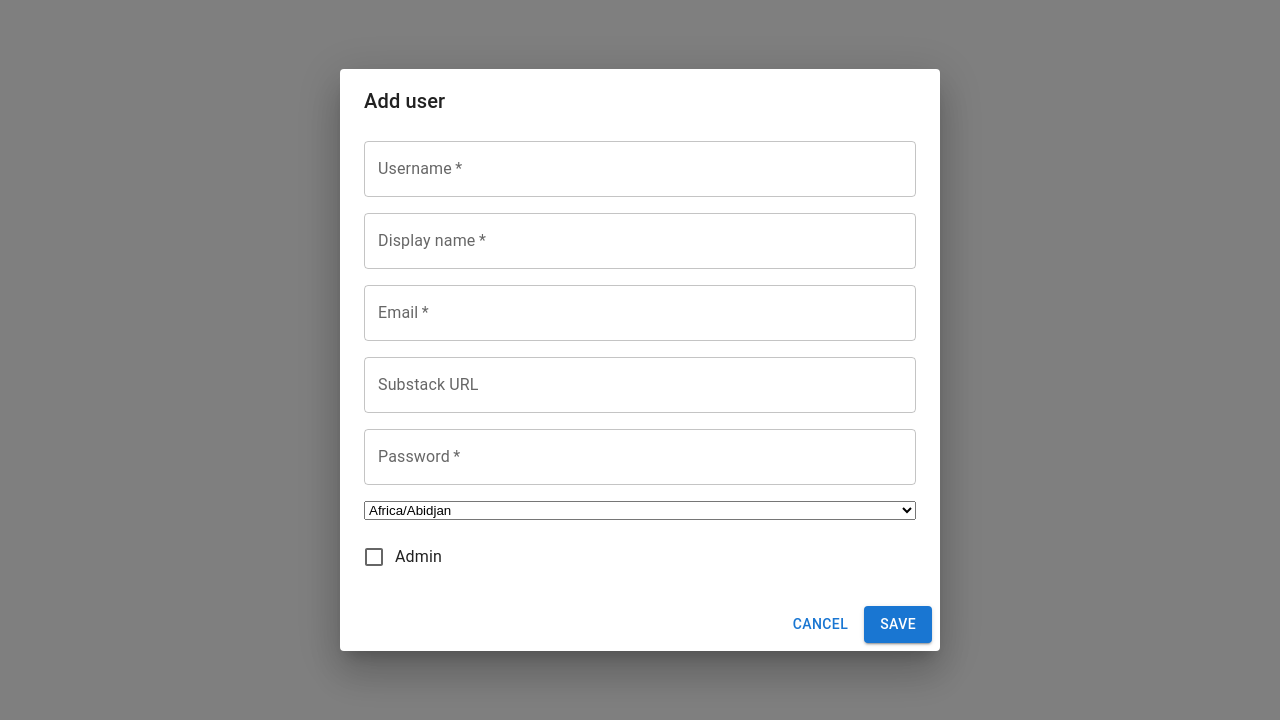
UserModal › shows error message when POST fails
The width and height of the screenshot is (1280, 720).
Type "alice" into the field labelled "Username *".
click(640, 169); type("alice")  # box [364, 141, 916, 197]
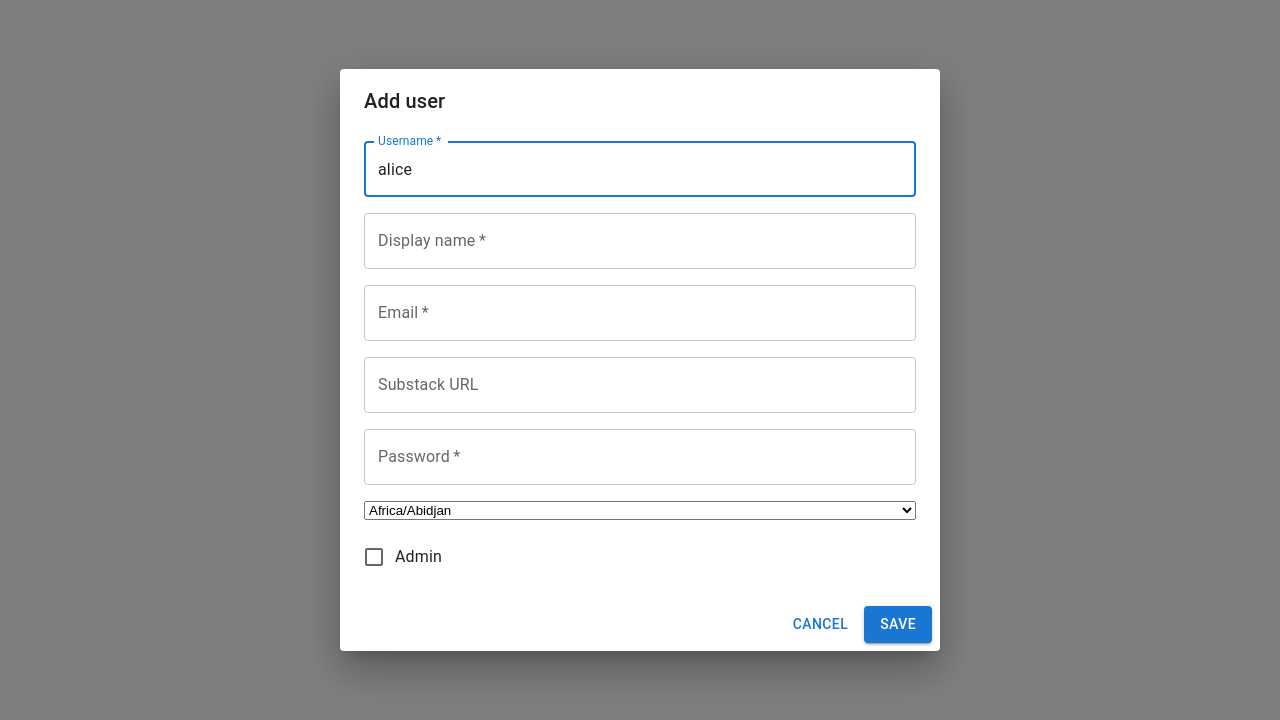
Type "Alice" into the field labelled "Display name *".
click(640, 241); type("Alice")  # box [364, 213, 916, 269]
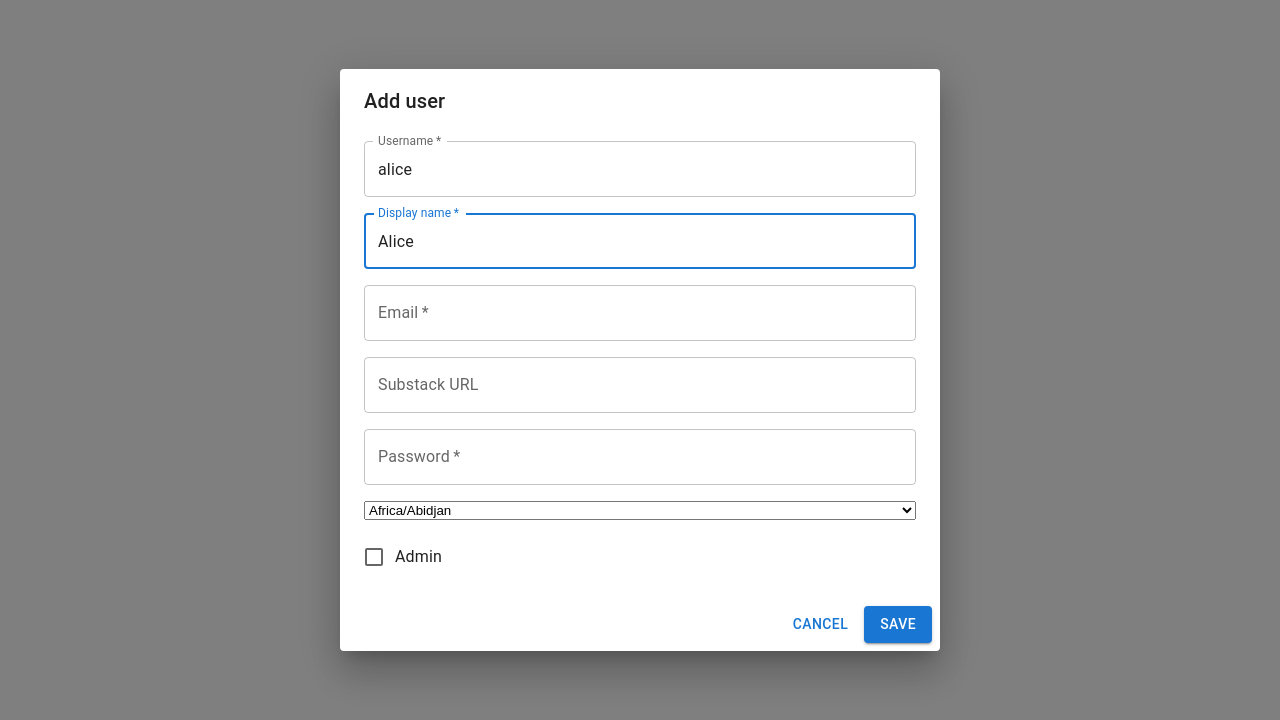
Type "alice@example.com" into the field labelled "Email *".
click(640, 313); type("alice@example.com")  # box [364, 285, 916, 341]
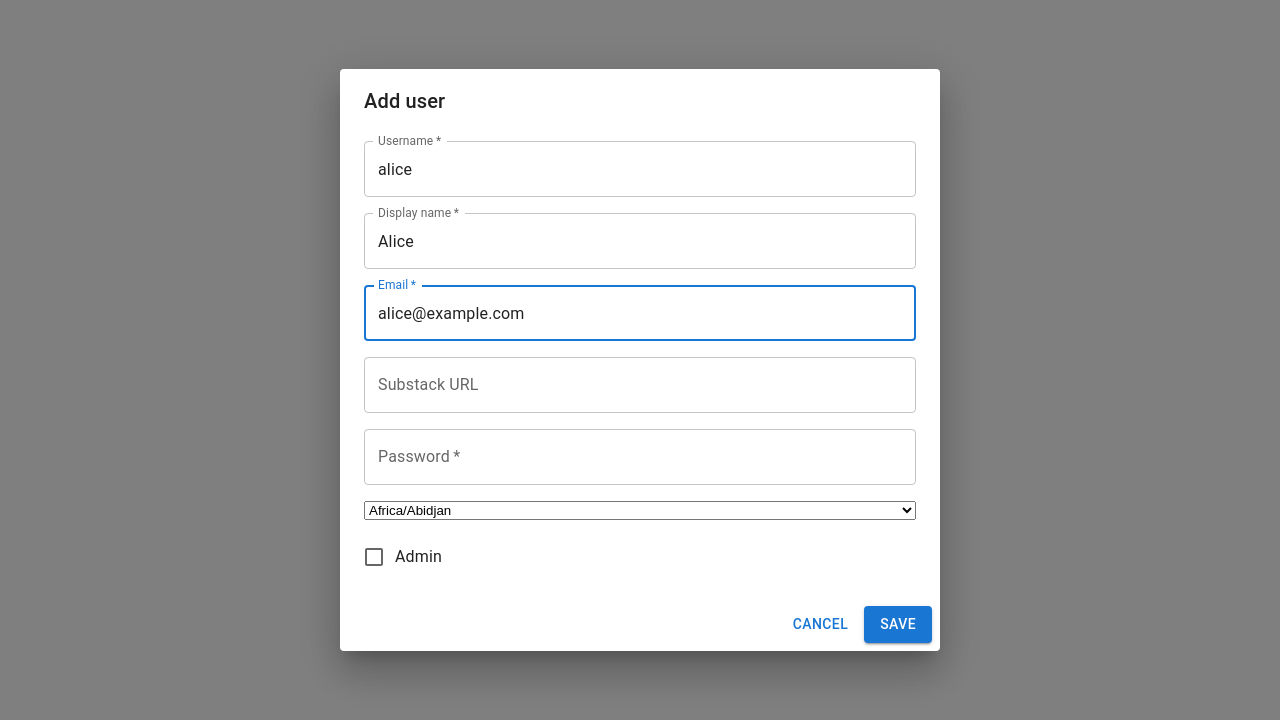
Type "password123" into the password field labelled "Password *".
click(640, 457); type("password123")  # box [364, 429, 916, 485]
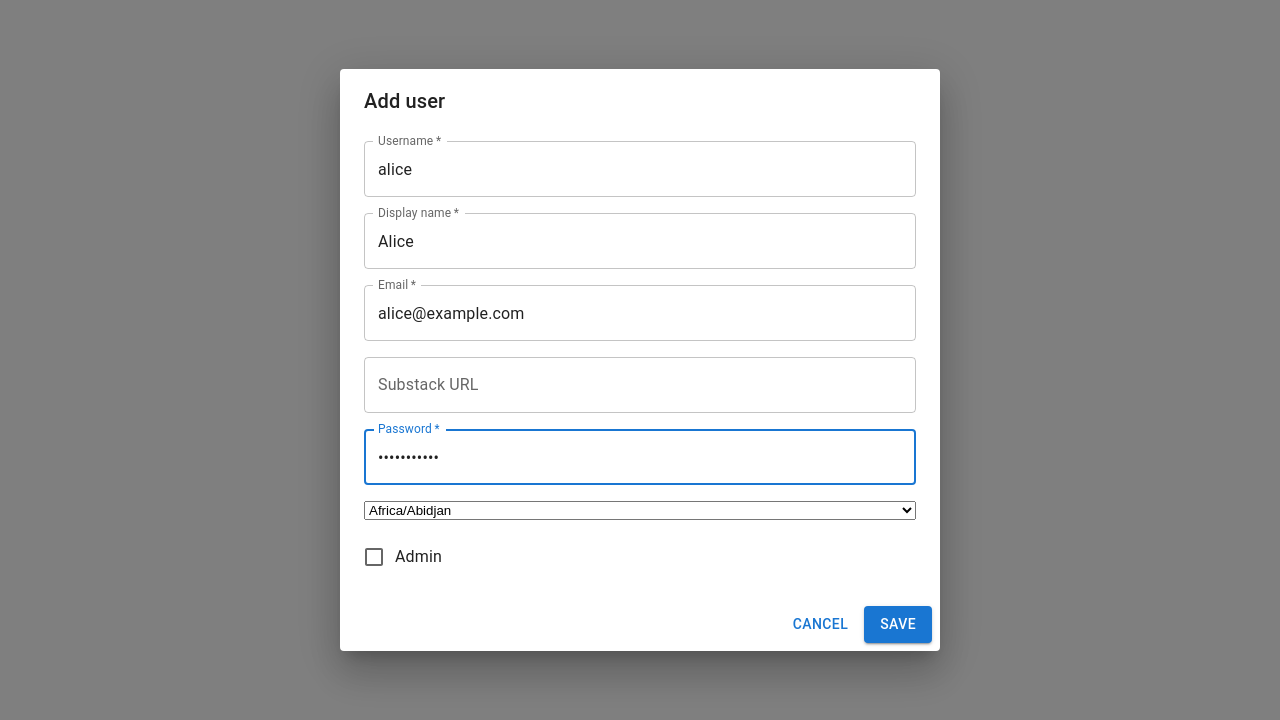
Click the button "Save".
click(898, 625)  # box [864, 606, 932, 643]
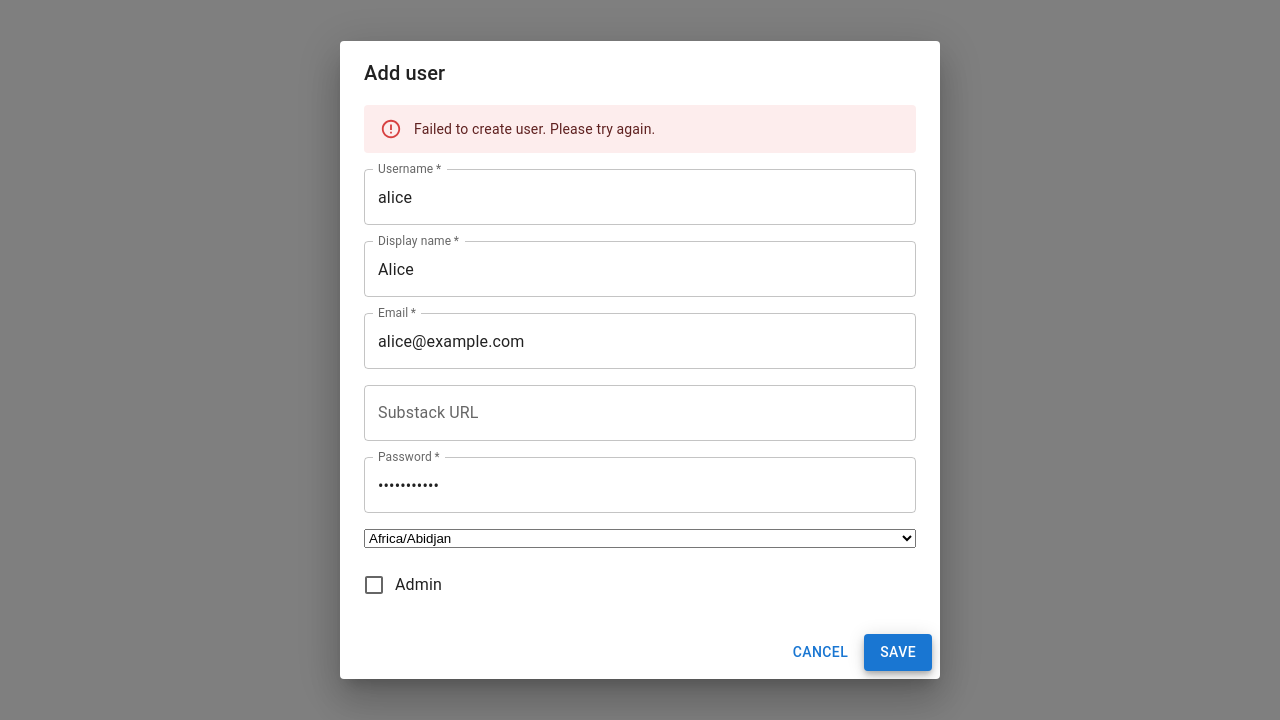
expect the text "Failed to create user. Please try again." is shown: met, box [414, 121, 655, 137]
